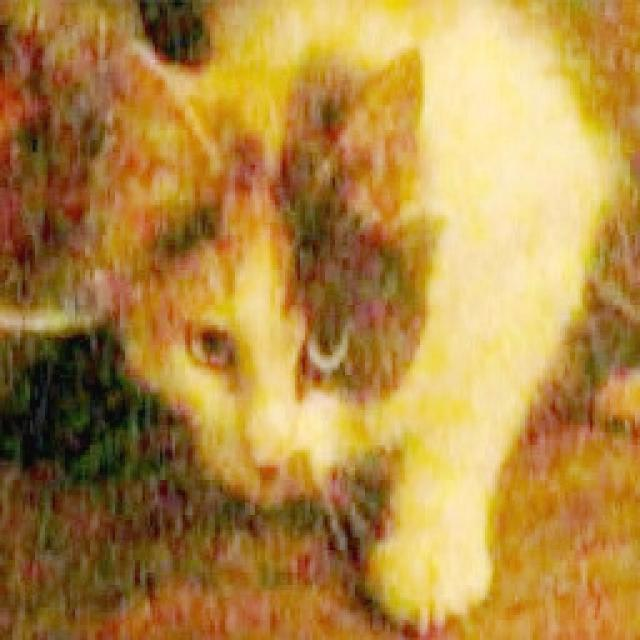cat: (99, 0, 623, 631)
